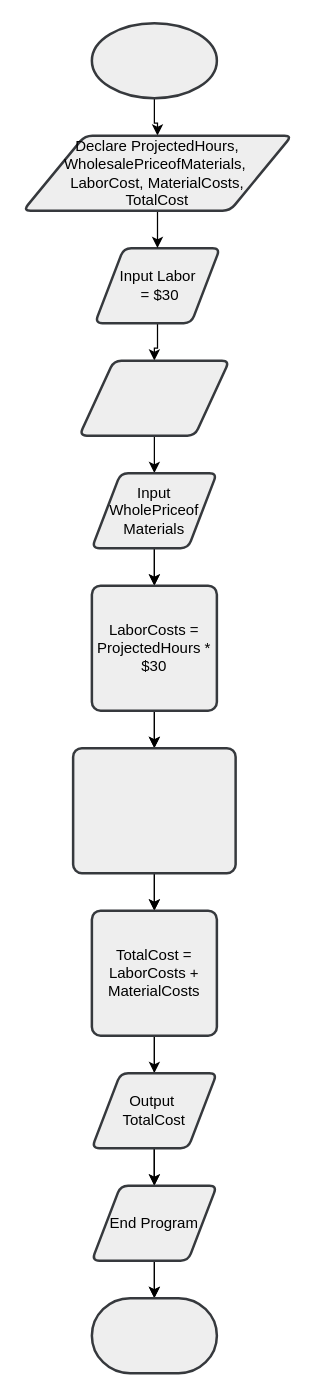
Image size: 314x1395. Some labels were removed from this diagram. The shapes that lost their labels are listed below. From the top down, each one's box as (x1, y1, x2, y2) in pixels, then its label:
(90, 21, 218, 99): Start
(78, 359, 230, 436): Input ProjectedHours
(71, 746, 236, 874): MaterialCosts = WholePriceofMaterials * 1.2
(90, 1296, 218, 1374): Stop
